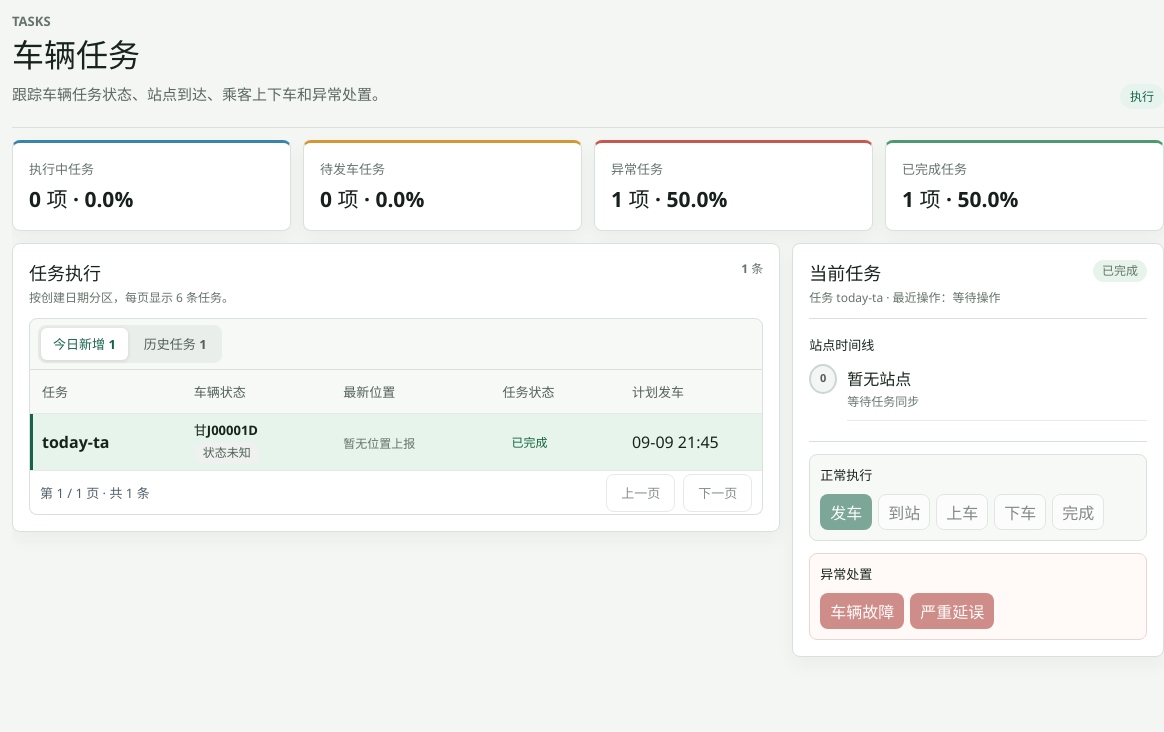
Test: TasksPage › separates today's tasks from history by createdAt instead of planned start
Expected: the table named "今日新增任务列表" shows "甘J00001D", [194,421,258,439]
Expected: the table named "今日新增任务列表" does not show "甘J00002D", [30,370,763,471]
Click the button "历史任务 1" at (175, 344), box [132,328,219,360]
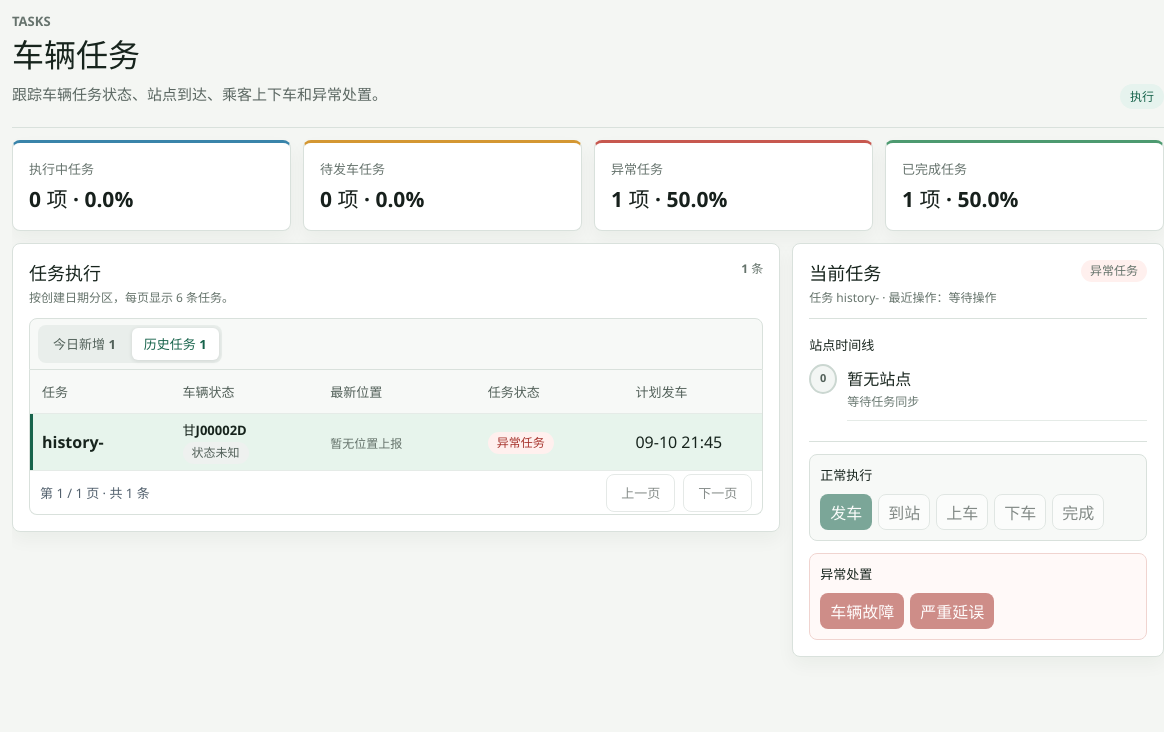
Result: the table named "历史任务列表" shows "甘J00002D" at [183,421,247,439]
Result: the table named "历史任务列表" no longer shows "甘J00001D" at [30,370,763,471]
